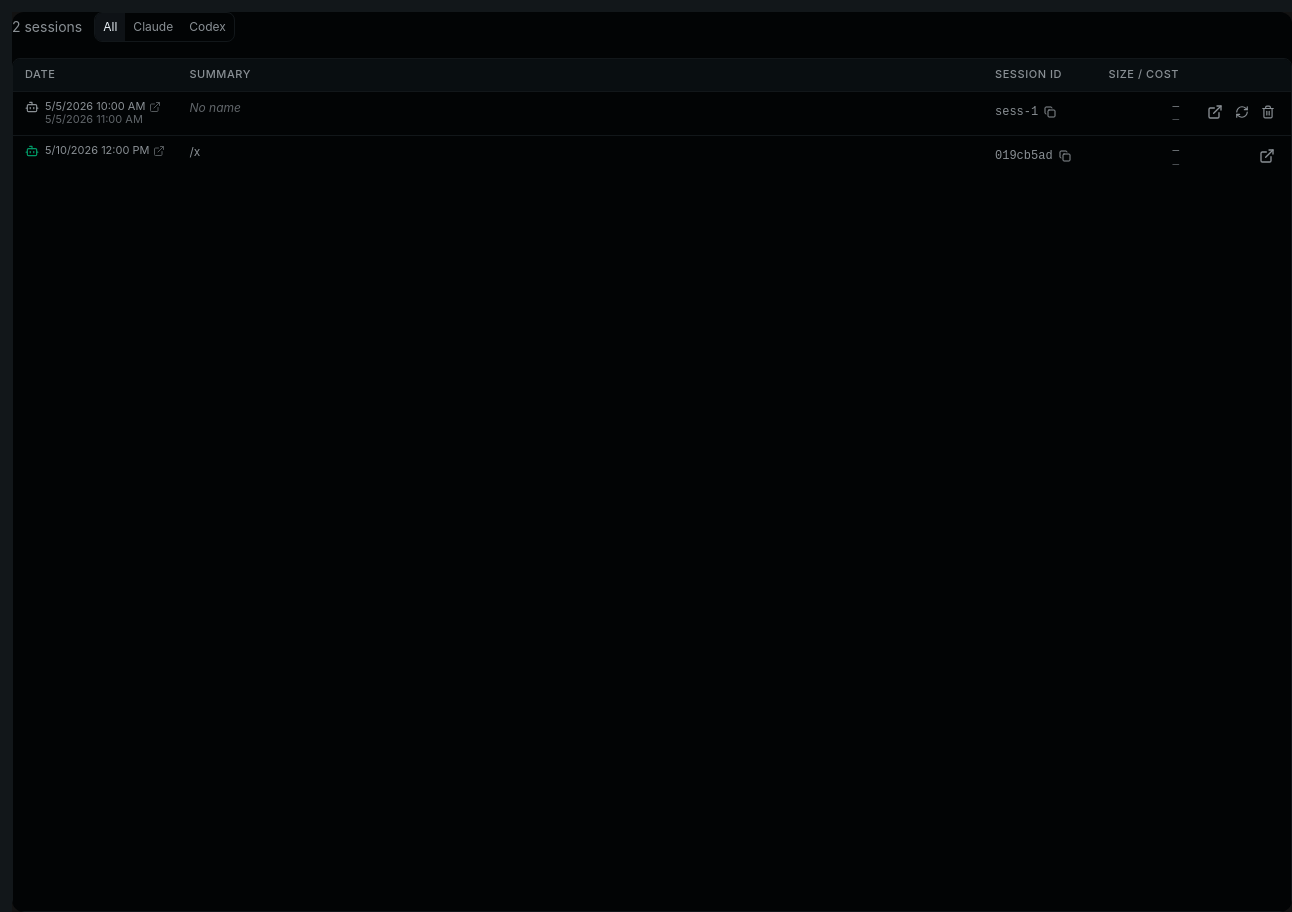
it: SessionList — Codex partition (Task 16) › hides Codex rows when the agent filter is set to "claude"
Expected: the text "019cb5ad" is shown, [995, 148, 1053, 164]
Expected: the text "sess-1" is shown, [995, 104, 1038, 120]
Click the button "claude".
click(153, 27)  # box [125, 13, 181, 41]
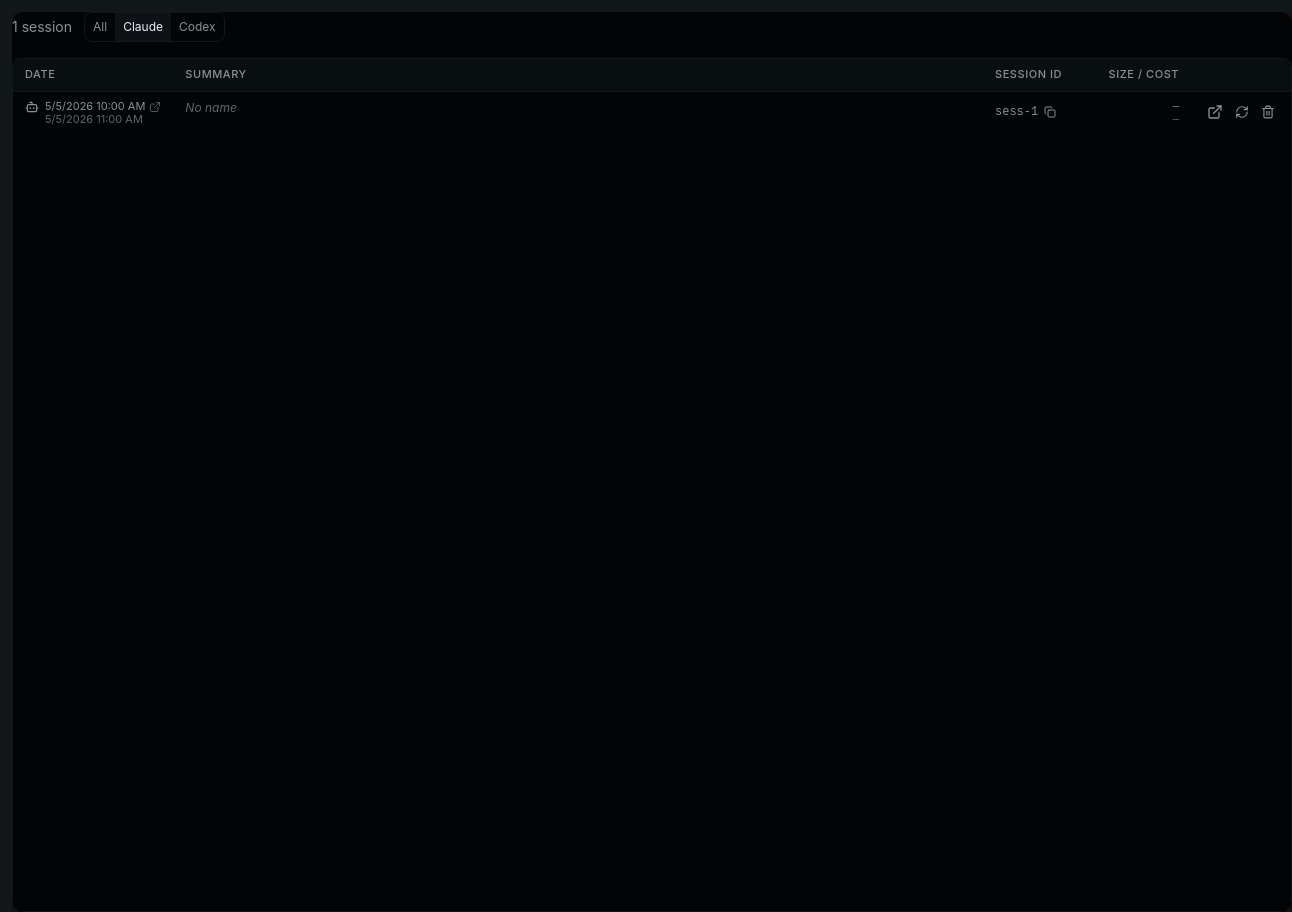
Expected: the text "sess-1" is shown, [995, 104, 1038, 120]
Now the button "019cb5ad" is gone
